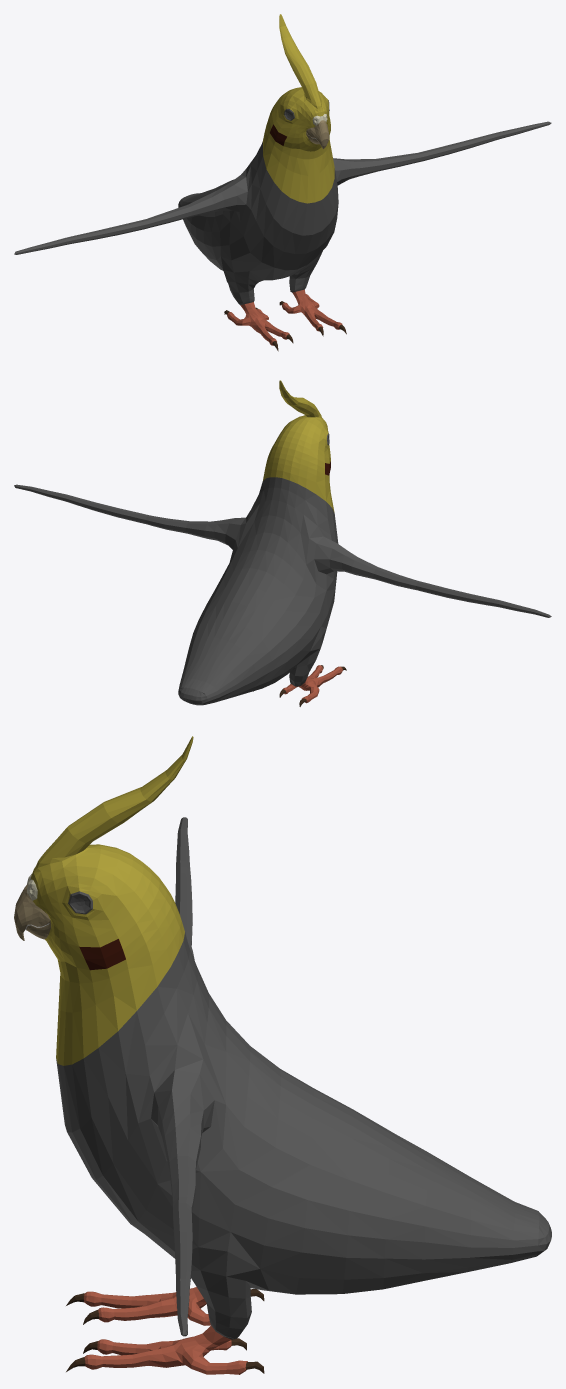
The model's file is cockatiel_cockatiel.obj.
The picture shows the model from 3 angles, top to bottom: view 1: azimuth 30°, elevation 25°; view 2: azimuth 150°, elevation 25°; view 3: azimuth 270°, elevation 25°; orthographic projection. The views are drawn at different scales.
Size of the model in its own units: 0.3779 by 0.2053 by 0.1658.
